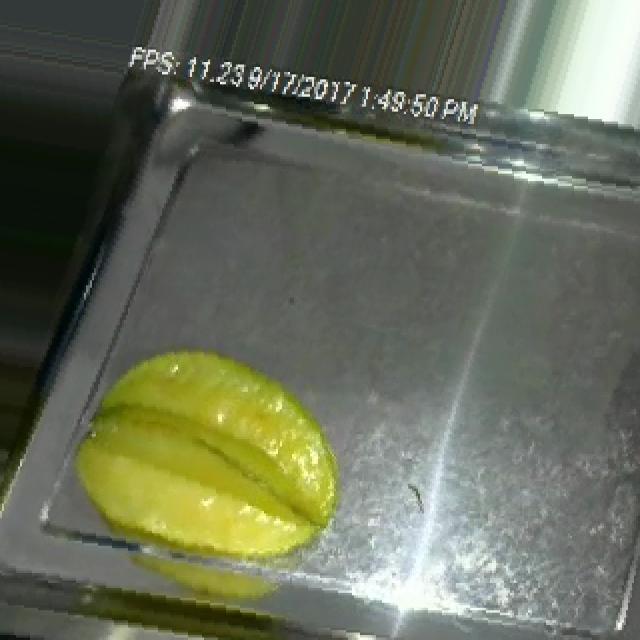fruit: (40, 298, 374, 608)
